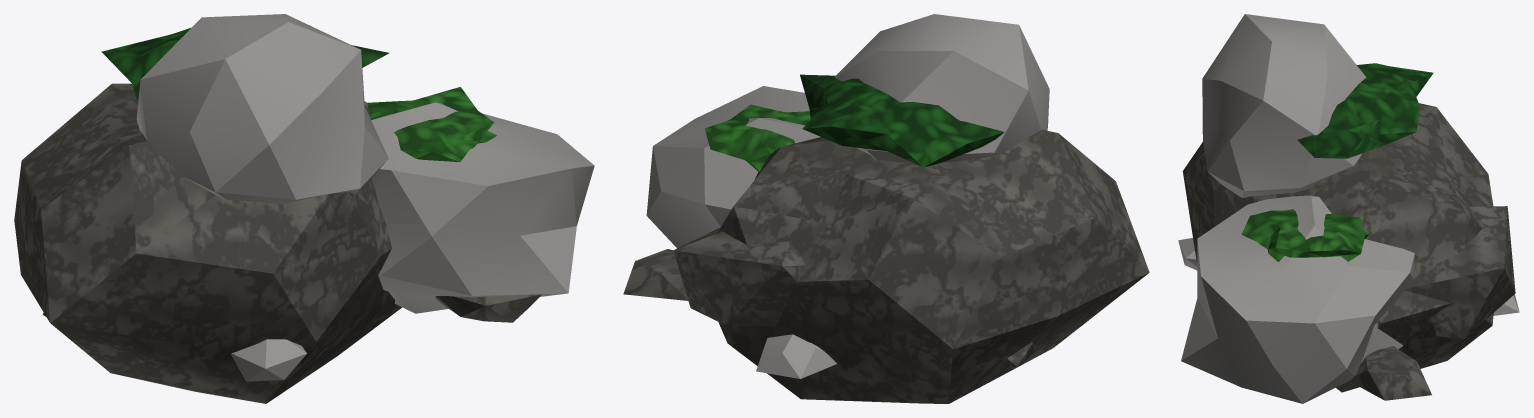
The model's file is prop_cliff_rock.glb.
3 views of the same model, side by side, from view 1: azimuth 30°, elevation 25°; view 2: azimuth 150°, elevation 25°; view 3: azimuth 270°, elevation 25° (orthographic). The views are drawn at different scales.
Parts seen in each view (by area): view 1: prop_cliff_rock; view 2: prop_cliff_rock; view 3: prop_cliff_rock.
Part boxes in pixels (bbox=[...]): prop_cliff_rock: bbox=[14, 14, 594, 403]; prop_cliff_rock: bbox=[623, 14, 1149, 403]; prop_cliff_rock: bbox=[1178, 14, 1519, 403].
Bounding box in the file's own units: 4.09 × 2.89 × 2.77.
4 materials, 3 textured.
